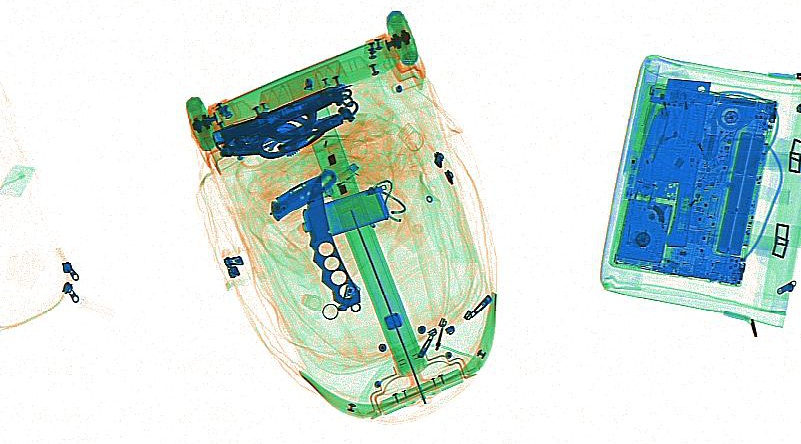handcuffs: (220, 100, 357, 157)
knife: (649, 77, 711, 247), (305, 175, 361, 313), (269, 173, 324, 220)
zippooil: (298, 186, 388, 239)
